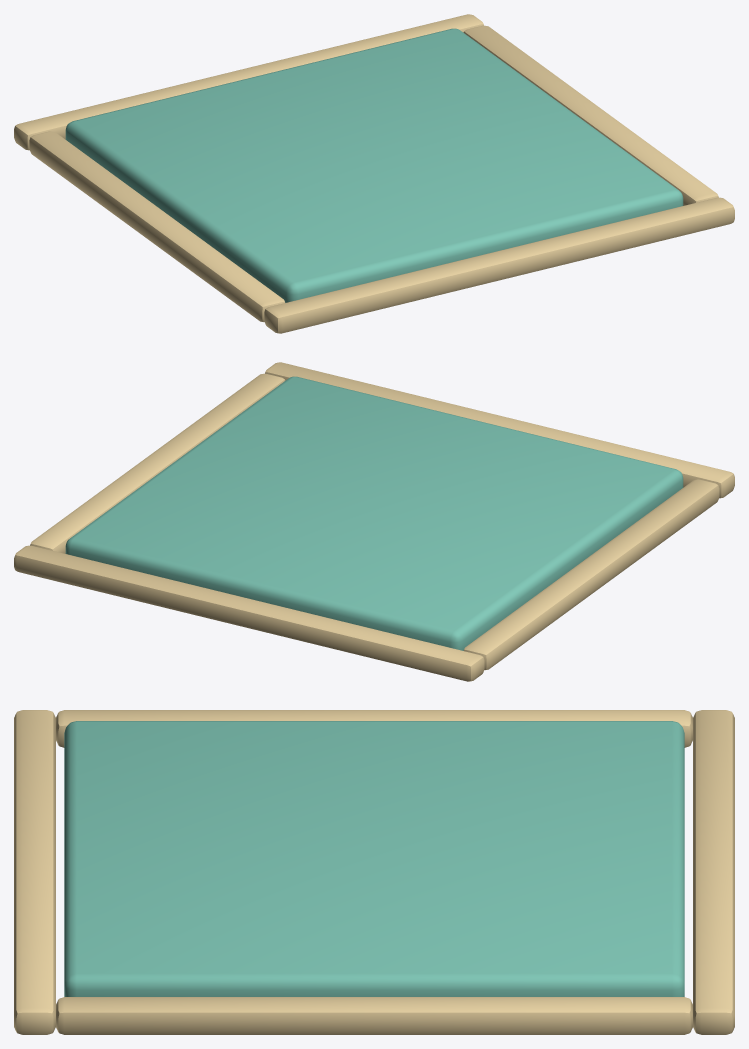
Rendered from Plate.fbx.
The picture shows the model from 3 angles, top to bottom: view 1: azimuth 30°, elevation 25°; view 2: azimuth 150°, elevation 25°; view 3: azimuth 270°, elevation 25°; orthographic projection. The views are drawn at different scales.
Visible parts, largest first — view 1: Pad, Rim0, Rim2, Rim3, Rim1; view 2: Pad, Rim1, Rim2, Rim3, Rim0; view 3: Pad, Rim3, Rim0, Rim1, Rim2.
Part boxes in pixels (box(x1,y1,x2,y2)): Pad: box(65, 28, 683, 302); Rim0: box(264, 197, 734, 333); Rim2: box(29, 131, 285, 322); Rim3: box(463, 25, 718, 205); Rim1: box(14, 14, 483, 150); Pad: box(65, 376, 683, 650); Rim1: box(14, 545, 484, 681); Rim2: box(463, 479, 719, 670); Rim3: box(30, 373, 285, 553); Rim0: box(265, 362, 734, 498); Pad: box(64, 721, 684, 996); Rim3: box(56, 997, 692, 1034); Rim0: box(14, 710, 55, 1034); Rim1: box(693, 710, 734, 1034); Rim2: box(56, 710, 692, 747).
Size of the model in its own units: 0.86 by 0.05 by 0.86.
